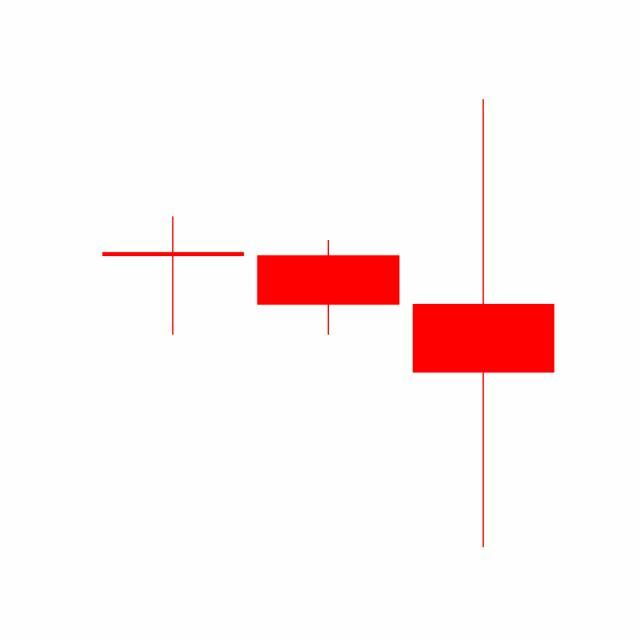Marubozu: (250, 240, 407, 337)
